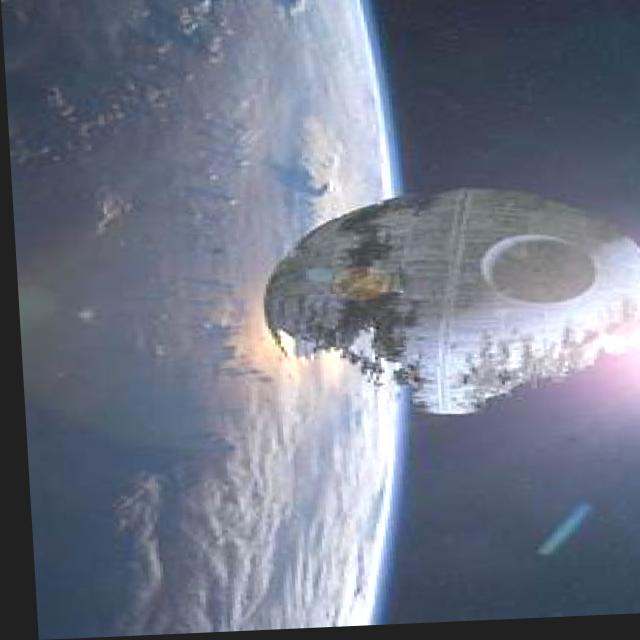deathStar: (257, 190, 640, 424)
